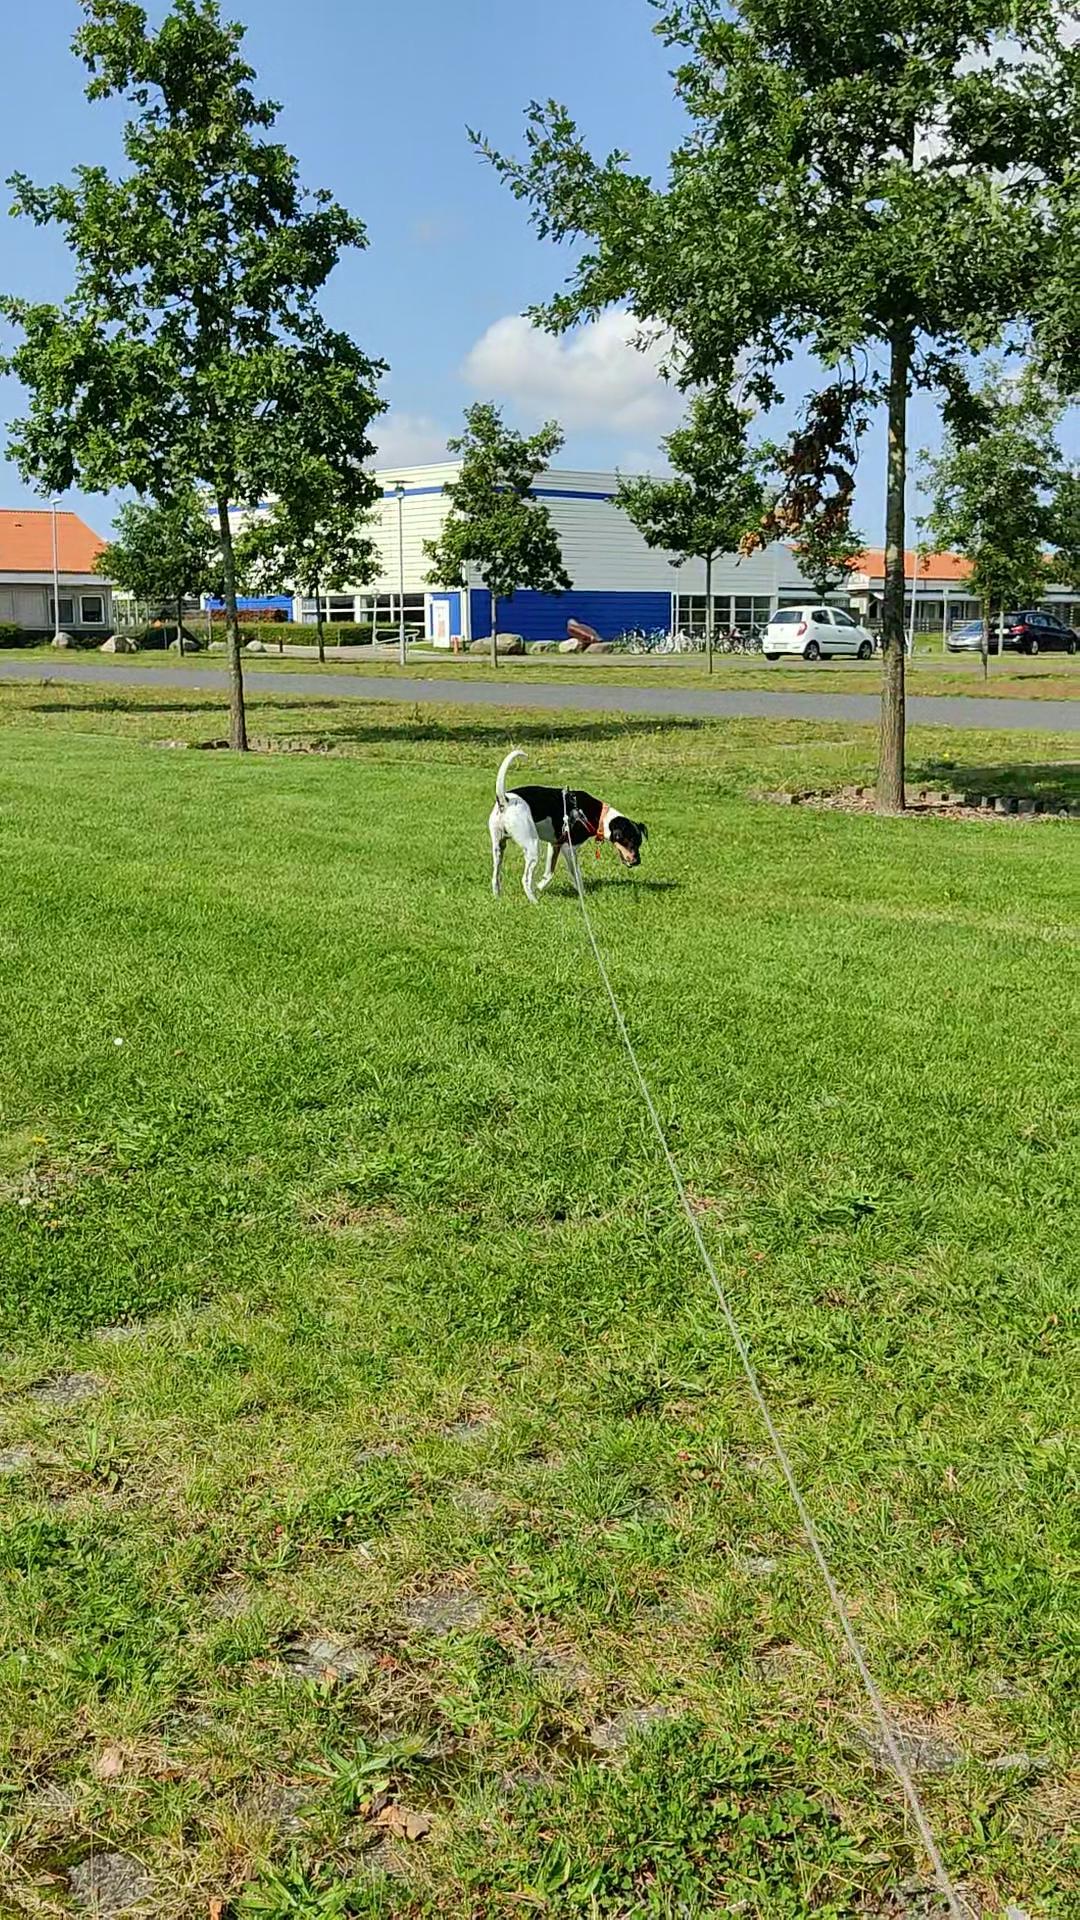Dog: (484, 746, 651, 905)
